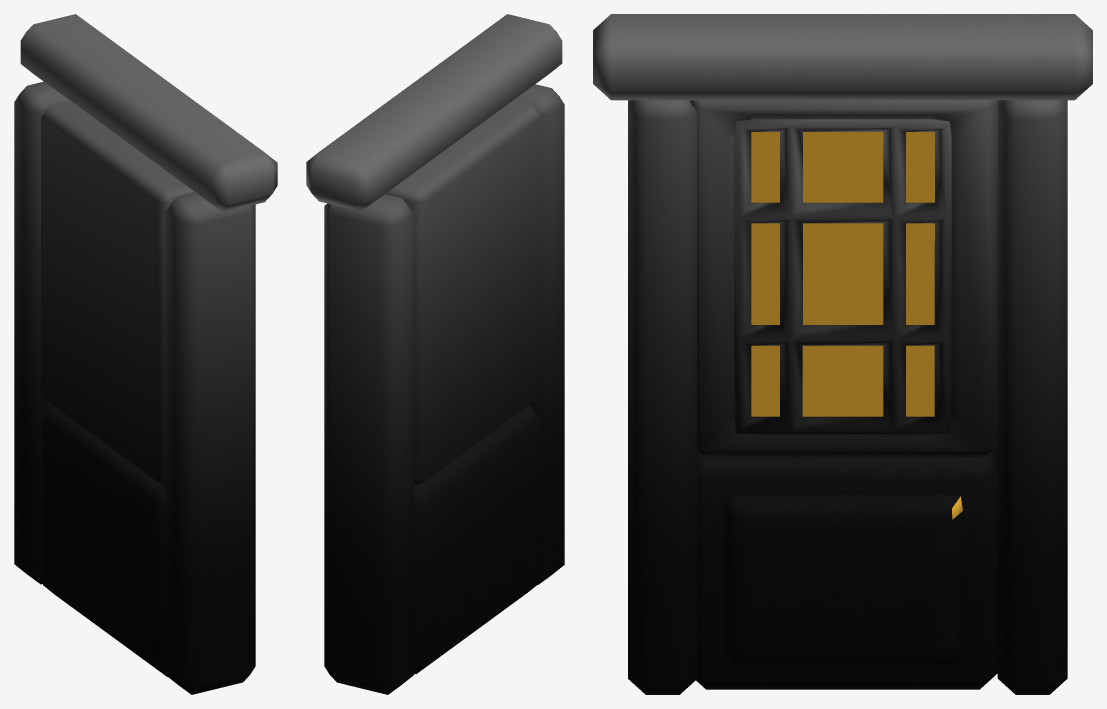
Rendered from SM_Brick_Door_03.fbx.
3 views of the same model, side by side, from view 1: azimuth 30°, elevation 25°; view 2: azimuth 150°, elevation 25°; view 3: azimuth 270°, elevation 25° (orthographic). The views are drawn at different scales.
Parts seen in each view (by area): view 1: SM_Brick_Door_03; view 2: SM_Brick_Door_03; view 3: SM_Brick_Door_03.
Part boxes in pixels (bbox=[...]): SM_Brick_Door_03: bbox=[14, 14, 277, 694]; SM_Brick_Door_03: bbox=[306, 14, 564, 694]; SM_Brick_Door_03: bbox=[593, 14, 1092, 694].
Size of the model in its own units: 0.0958 by 0.5839 by 0.4007.
